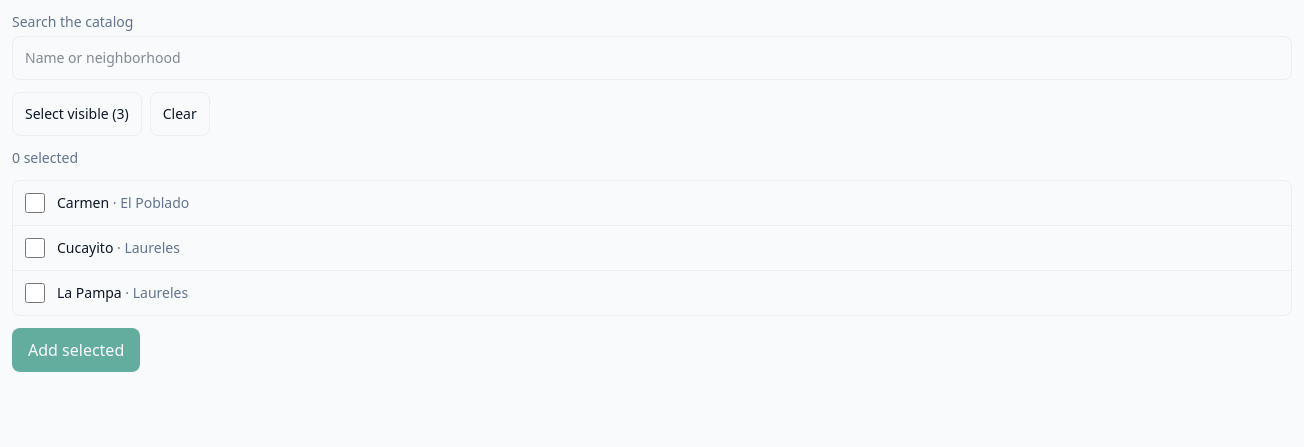
Test case: RestaurantPicker › keeps selection when the server rejects the entire action
This screenshot has width=1304, height=447.
What coordinates should you click on to do the following:
click the checkbox with test id "contest-picker-option" showing "Carmen · El Poblado"
I would click on:
 (35, 203)
Its box is x1=25 y1=193 x2=45 y2=213.
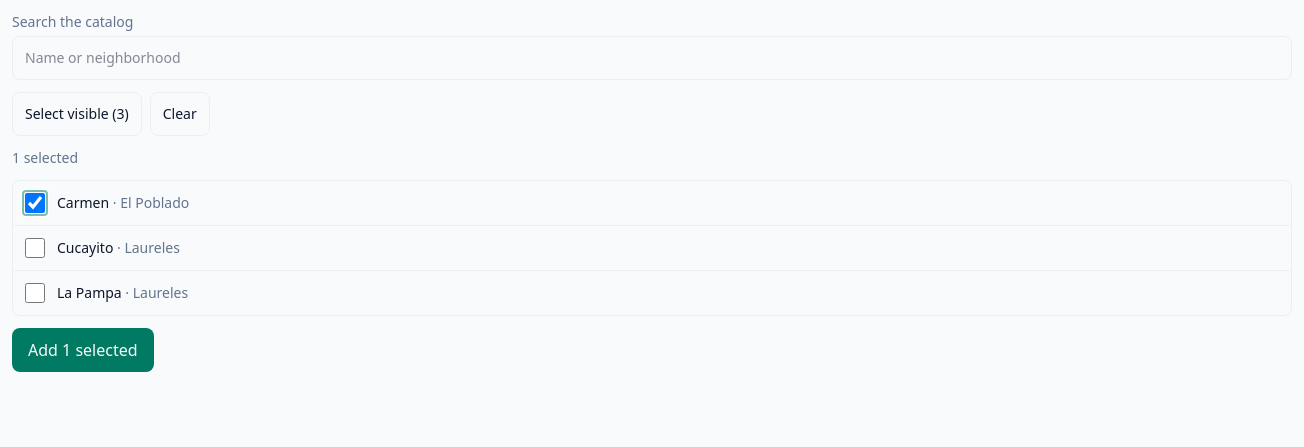
What coordinates should you click on to do the following:
click the button with test id "contest-link-submit"
I would click on:
 (83, 350)
Its box is x1=12 y1=328 x2=154 y2=372.
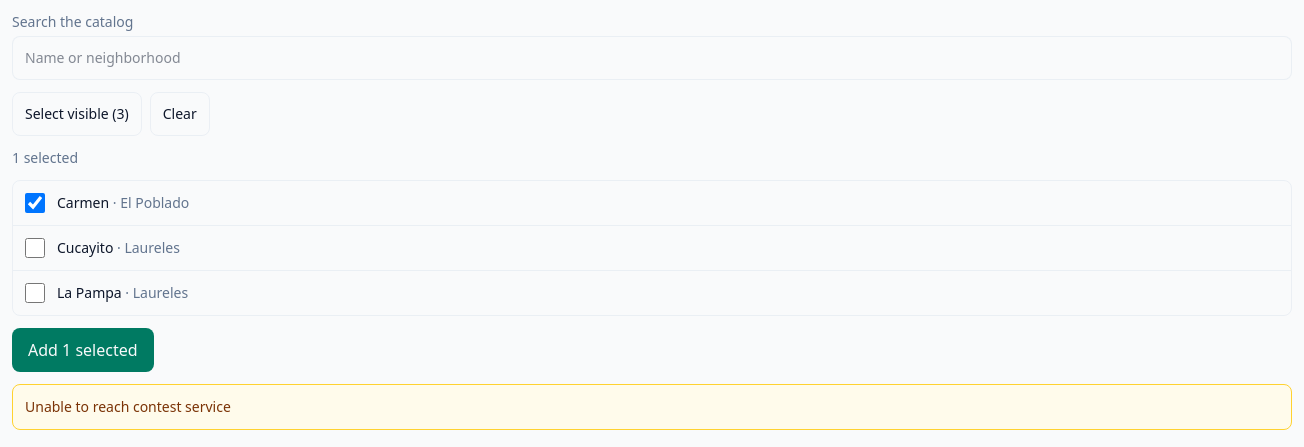
Expected: the message with test id "contest-picker-count" reads "1 selected", x1=12 y1=148 x2=78 y2=167
Expected: the text "Unable to reach contest service" is shown, x1=25 y1=397 x2=231 y2=416
